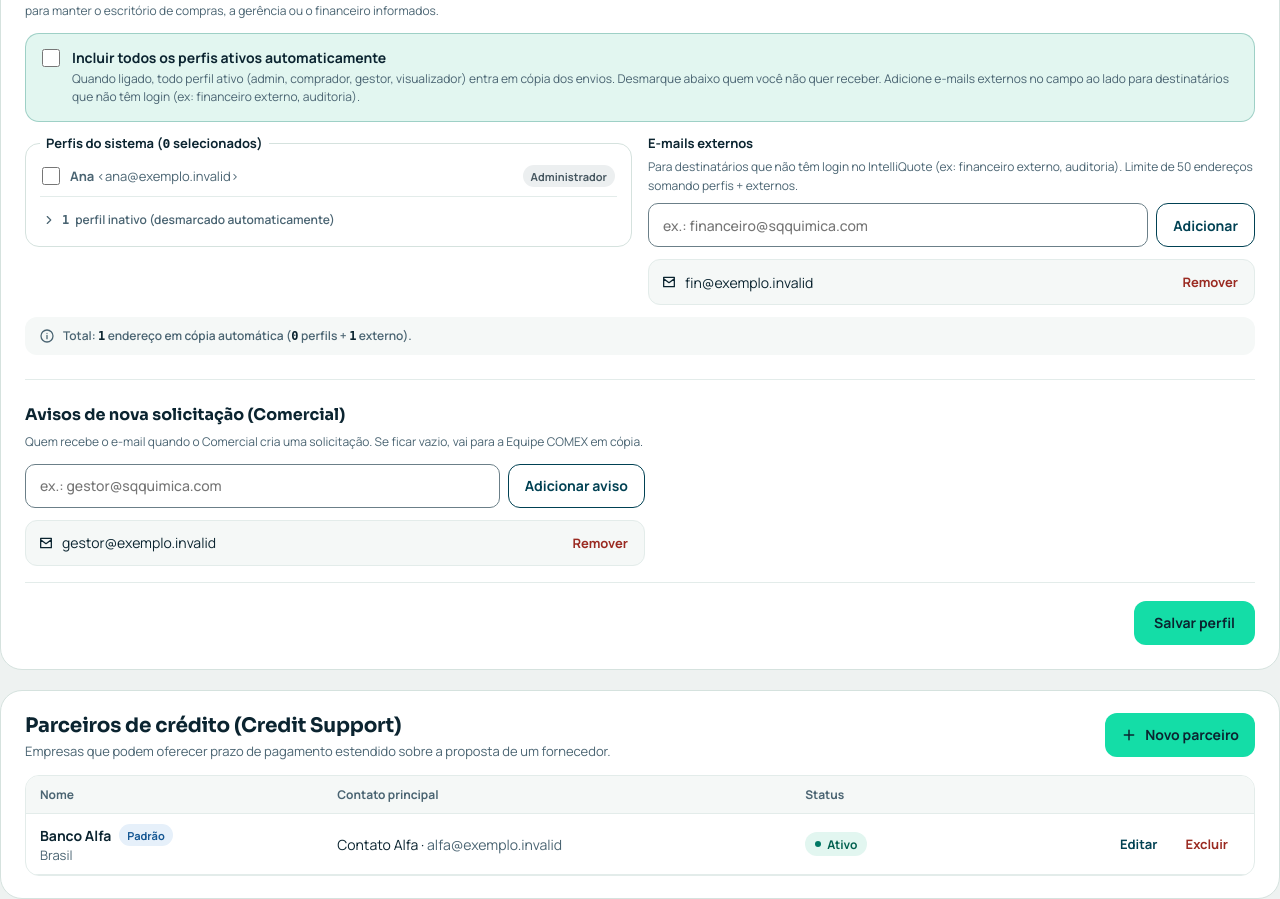
it: F11: Empresa e Parceiros de credito › Parceiros: .parceiros-credito, nenhuma classe credit-support*, modal com fieldset "Contato 1"
The image size is (1280, 899).
(page scrolled)
Check: the text "Banco Alfa" is shown, box [40,826,111,845]
Check: the element that starts with "Parceiros de crédito (Credit Support)" is shown, box [0,690,1279,898]
Click the button "Novo parceiro".
click(1180, 735)  # box [1105,713,1255,757]
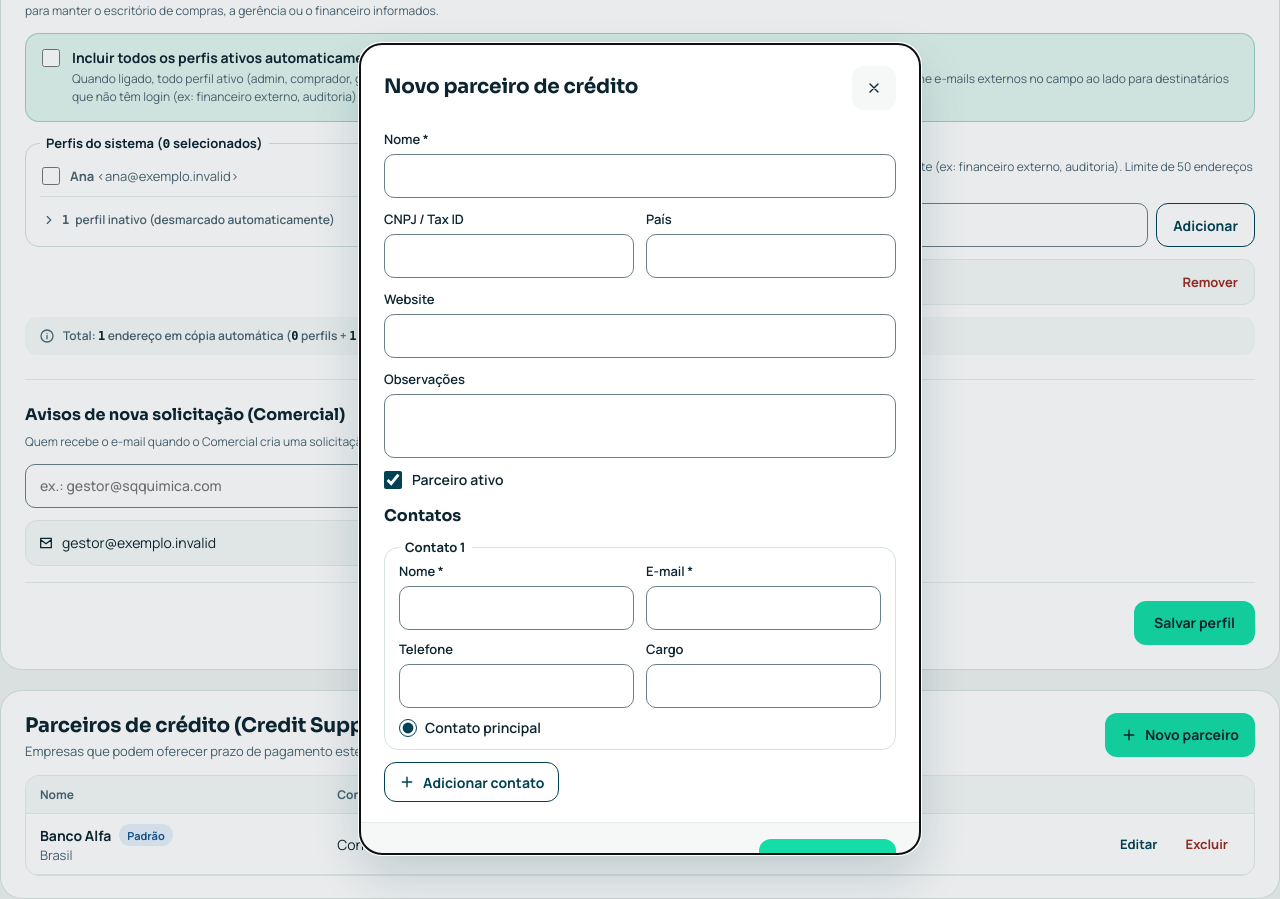
Check: the dialog is shown, box [360,44,920,854]
